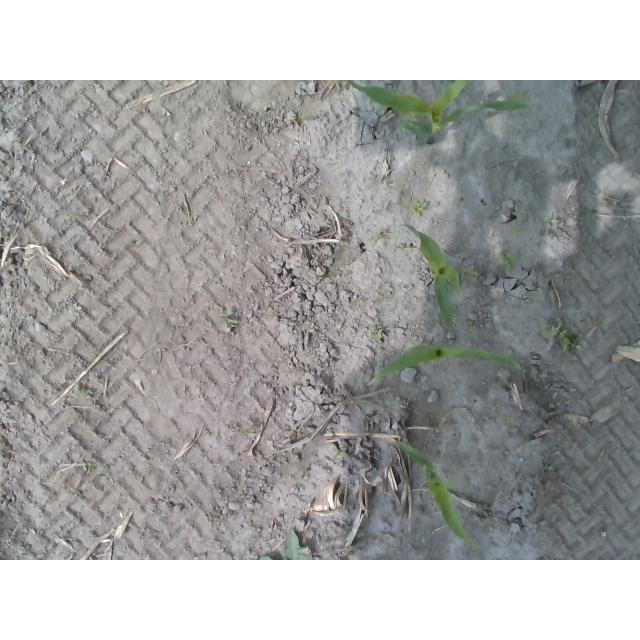Maize: (342, 82, 530, 147), (390, 441, 486, 548), (369, 339, 523, 387), (402, 220, 463, 331)
Weeds: (258, 530, 310, 560), (546, 323, 583, 354), (219, 311, 237, 329), (497, 252, 514, 267), (77, 388, 94, 400), (465, 269, 479, 283), (411, 201, 424, 215), (544, 215, 557, 228), (371, 330, 384, 342), (242, 425, 257, 435), (335, 446, 348, 456), (297, 471, 309, 481)
